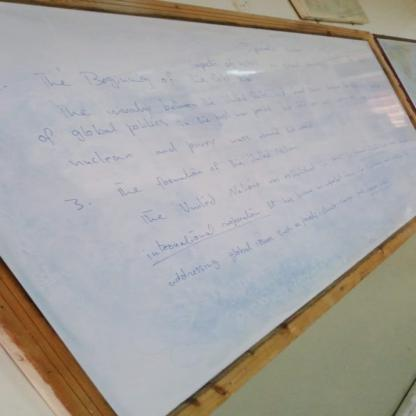Handwritten text: (121, 134, 415, 275), (155, 165, 407, 297), (128, 120, 415, 233), (27, 85, 300, 154), (60, 111, 332, 177), (99, 129, 318, 207), (47, 72, 370, 123), (29, 60, 267, 94)
